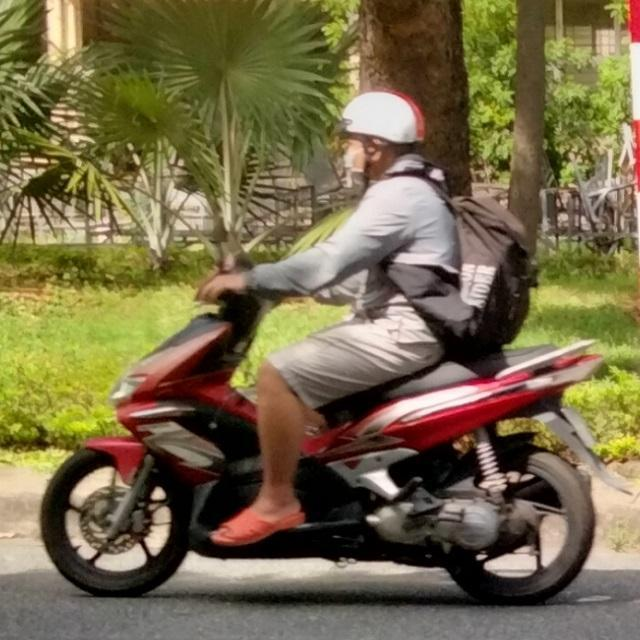Helmet: (341, 89, 424, 188)
